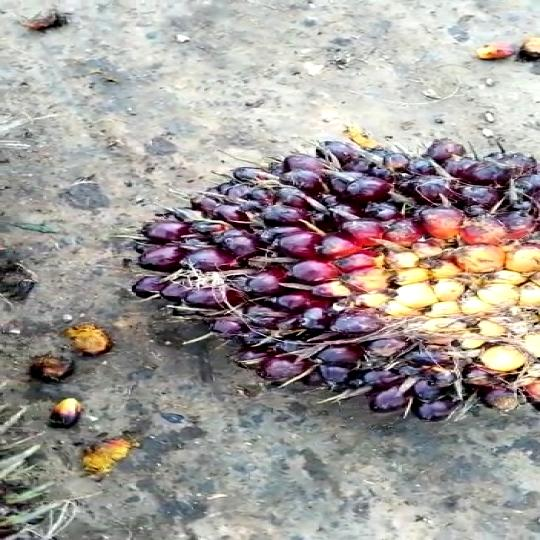mentah: (124, 139, 540, 423)
